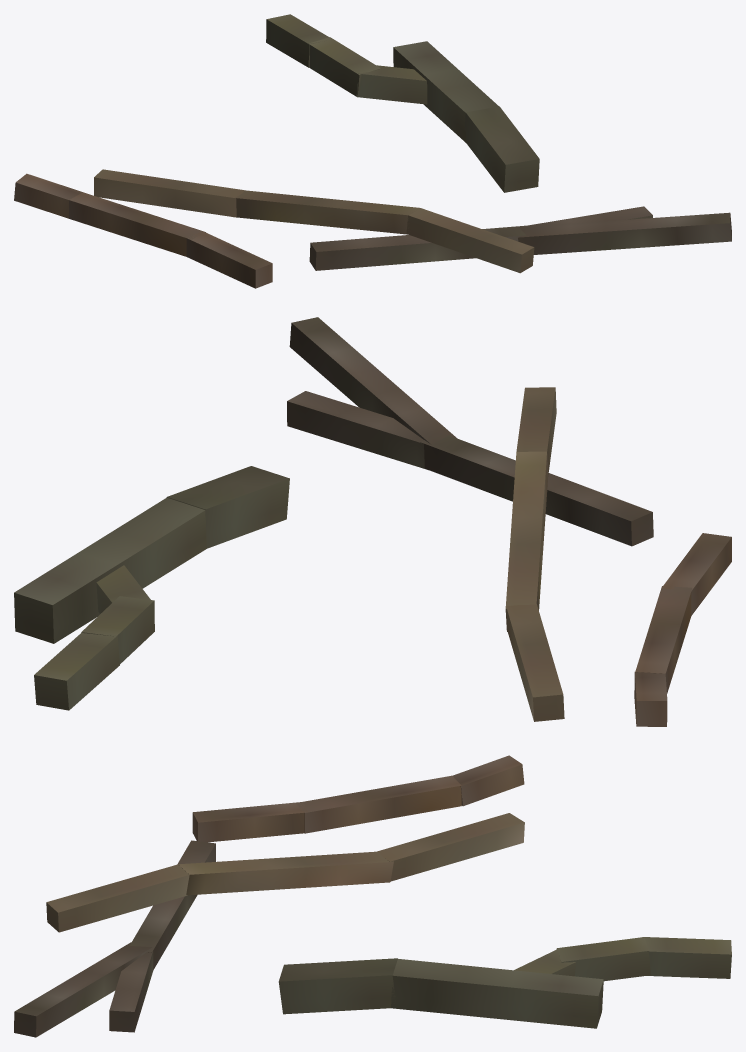
File: floortwig_3.obj
The picture shows the model from 3 angles, top to bottom: view 1: azimuth 30°, elevation 25°; view 2: azimuth 150°, elevation 25°; view 3: azimuth 270°, elevation 25°; orthographic projection. The views are drawn at different scales.
Visible parts, largest first — view 1: cube; view 2: cube; view 3: cube.
Boxes of the visible parts, x1=… form: cube: x1=14, y1=14, x2=731, y2=288; cube: x1=14, y1=317, x2=731, y2=726; cube: x1=14, y1=755, x2=731, y2=1037.
Bounding box in the file's own units: 1.34 × 0.1344 × 1.52.
